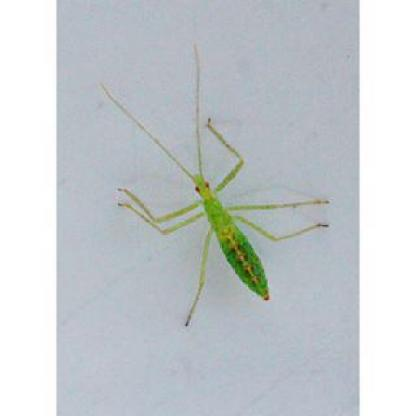aphid: (97, 48, 334, 327)
